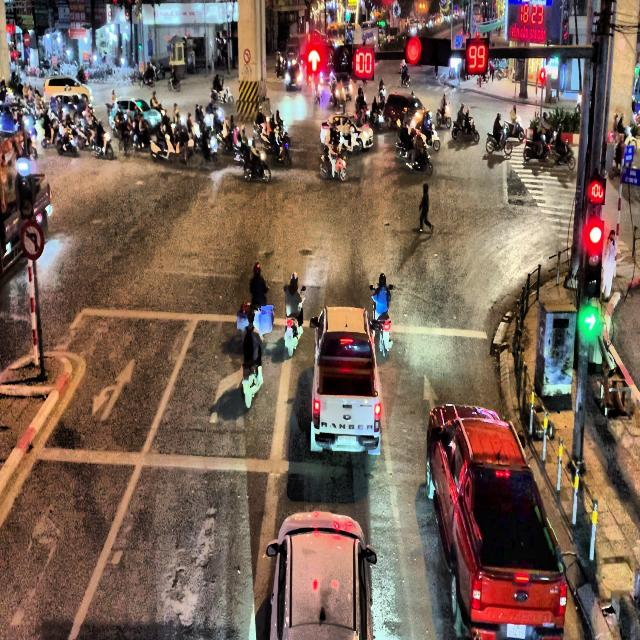CAR: (426, 403, 568, 640), (266, 510, 376, 640), (309, 305, 382, 456), (321, 113, 374, 154), (106, 98, 163, 134), (384, 92, 431, 133), (329, 72, 353, 104), (285, 60, 303, 90)
MOTORBIKE: (369, 284, 393, 357), (395, 139, 433, 176), (242, 143, 270, 183), (523, 127, 550, 161), (149, 131, 178, 162), (550, 137, 576, 170), (486, 124, 512, 156), (194, 133, 220, 165), (452, 115, 479, 143), (320, 153, 347, 181), (270, 134, 292, 167), (57, 125, 79, 156), (41, 117, 61, 148), (92, 131, 114, 159), (502, 118, 524, 143), (210, 82, 233, 104), (436, 102, 451, 128), (139, 71, 155, 87), (399, 68, 410, 88), (168, 74, 180, 91), (314, 82, 323, 104), (496, 66, 509, 80)
